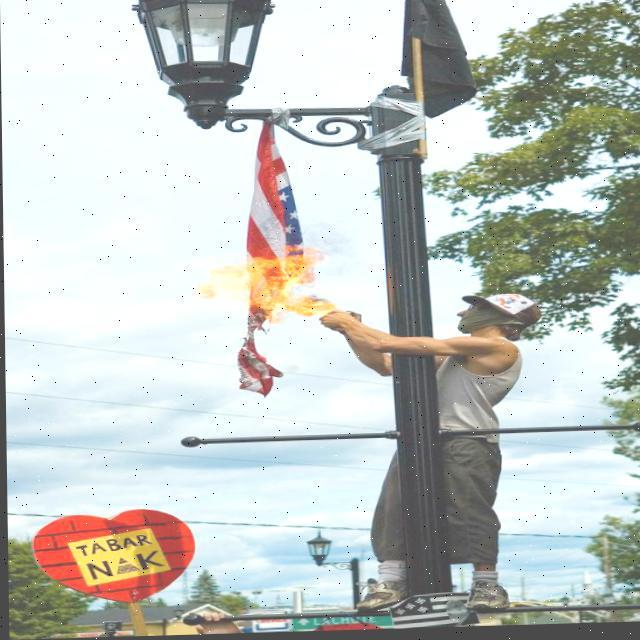Fire: (193, 248, 339, 331)
